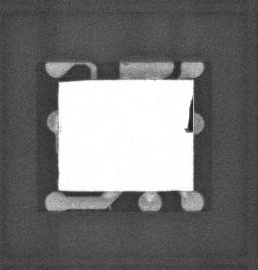DIE_BROKEN: (183, 97, 195, 135)
